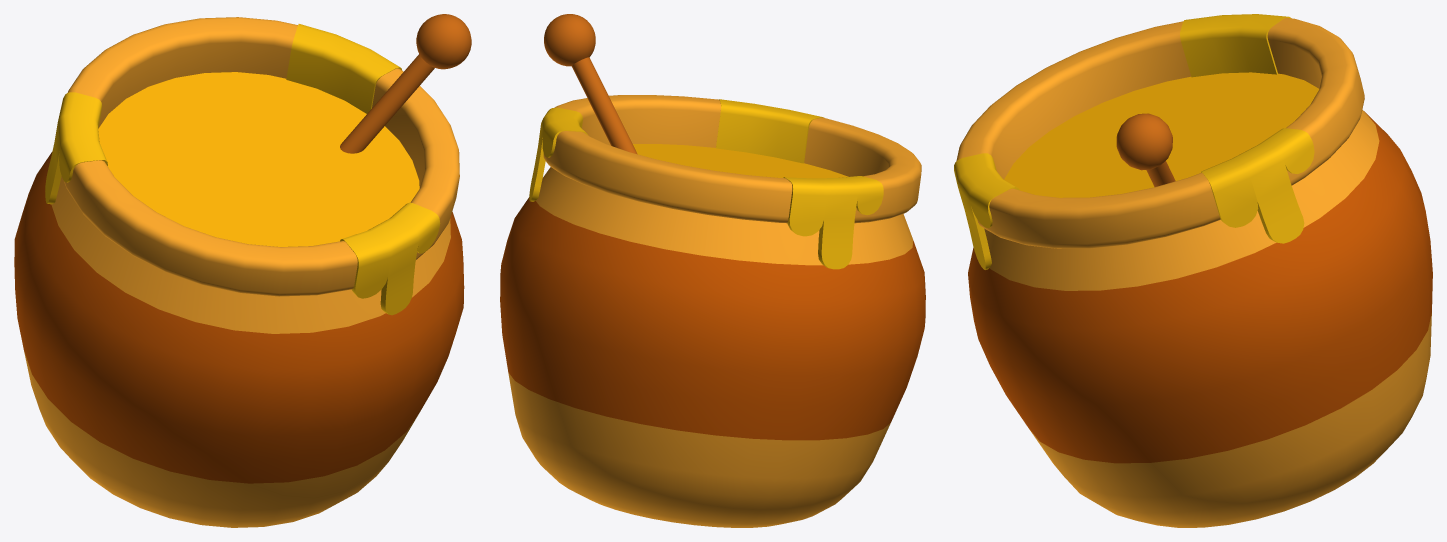
Rendered from honey_pot.glb.
The picture shows the model from 3 angles, left to right: view 1: azimuth 30°, elevation 25°; view 2: azimuth 150°, elevation 25°; view 3: azimuth 270°, elevation 25°; orthographic projection. The views are drawn at different scales.
Visible parts, largest first — view 1: Circle.2262, Circle.2263, Circle.2265, Sphere.499, Circle.2264; view 2: Circle.2262, Circle.2264, Circle.2263, Sphere.499, Circle.2265; view 3: Circle.2262, Circle.2265, Circle.2264, Circle.2263, Sphere.499.
Boxes of the visible parts, left/top/right/bottom form: Circle.2262: left=14, top=17, right=464, bottom=527; Circle.2263: left=340, top=202, right=440, bottom=315; Circle.2265: left=286, top=24, right=402, bottom=113; Sphere.499: left=340, top=14, right=471, bottom=153; Circle.2264: left=45, top=92, right=107, bottom=204; Circle.2262: left=500, top=95, right=925, bottom=527; Circle.2264: left=783, top=176, right=883, bottom=269; Circle.2263: left=716, top=99, right=823, bottom=163; Sphere.499: left=544, top=14, right=637, bottom=154; Circle.2265: left=529, top=107, right=588, bottom=201; Circle.2262: left=956, top=17, right=1432, bottom=527; Circle.2265: left=1201, top=128, right=1314, bottom=243; Circle.2264: left=1180, top=14, right=1291, bottom=77; Circle.2263: left=954, top=153, right=1019, bottom=269; Sphere.499: left=1116, top=113, right=1175, bottom=186.
Bounding box in the file's own units: 2.05 × 2.24 × 2.08.
1 material, 1 textured.
